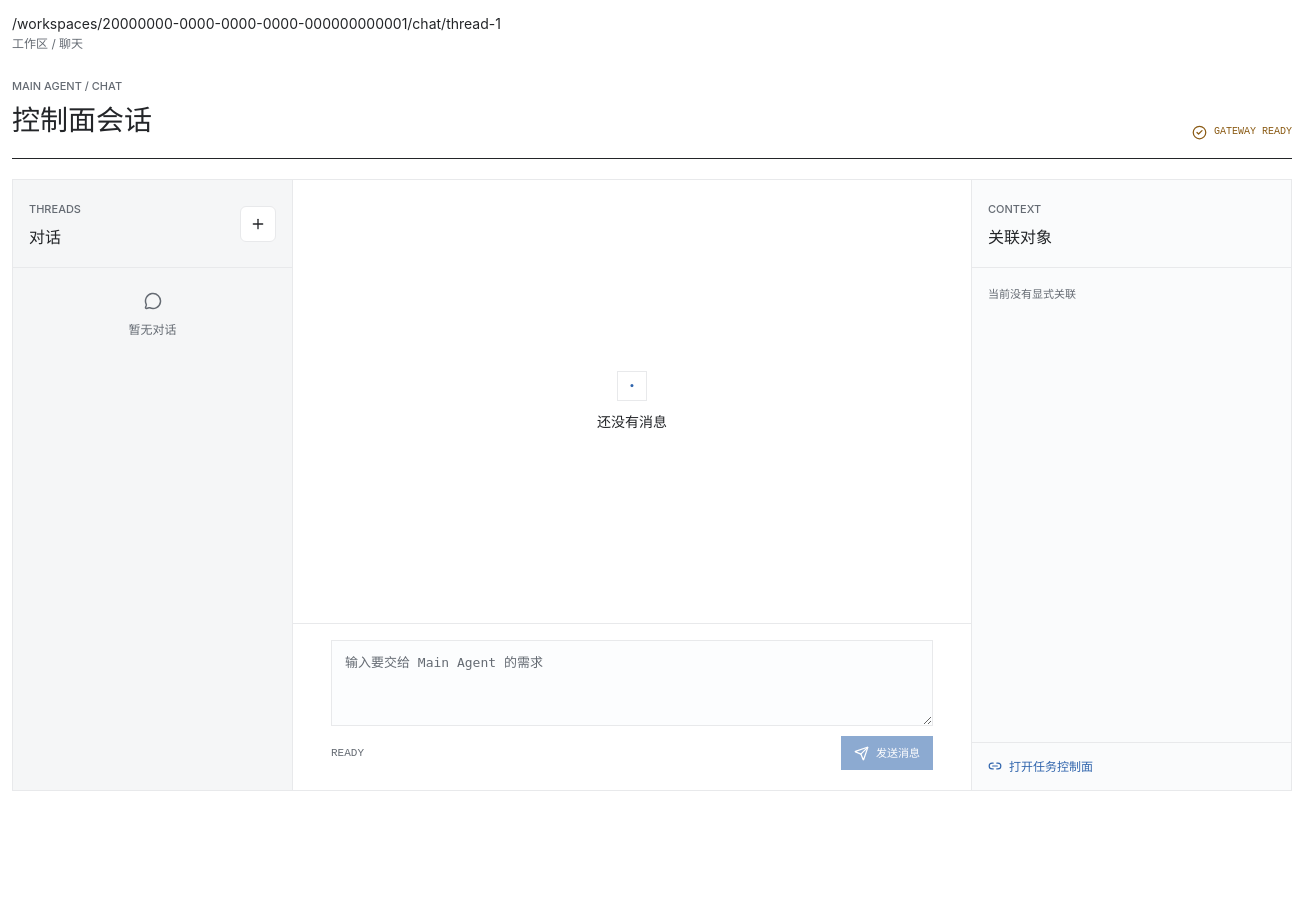
Main Agent chat workspace › retains the draft and original operation for a durable UNKNOWN acknowledgement without resend
The width and height of the screenshot is (1304, 912).
Type "original unknown text" into the text box named "给 Main Agent 的消息" at (632, 683), box [331,640,933,726]
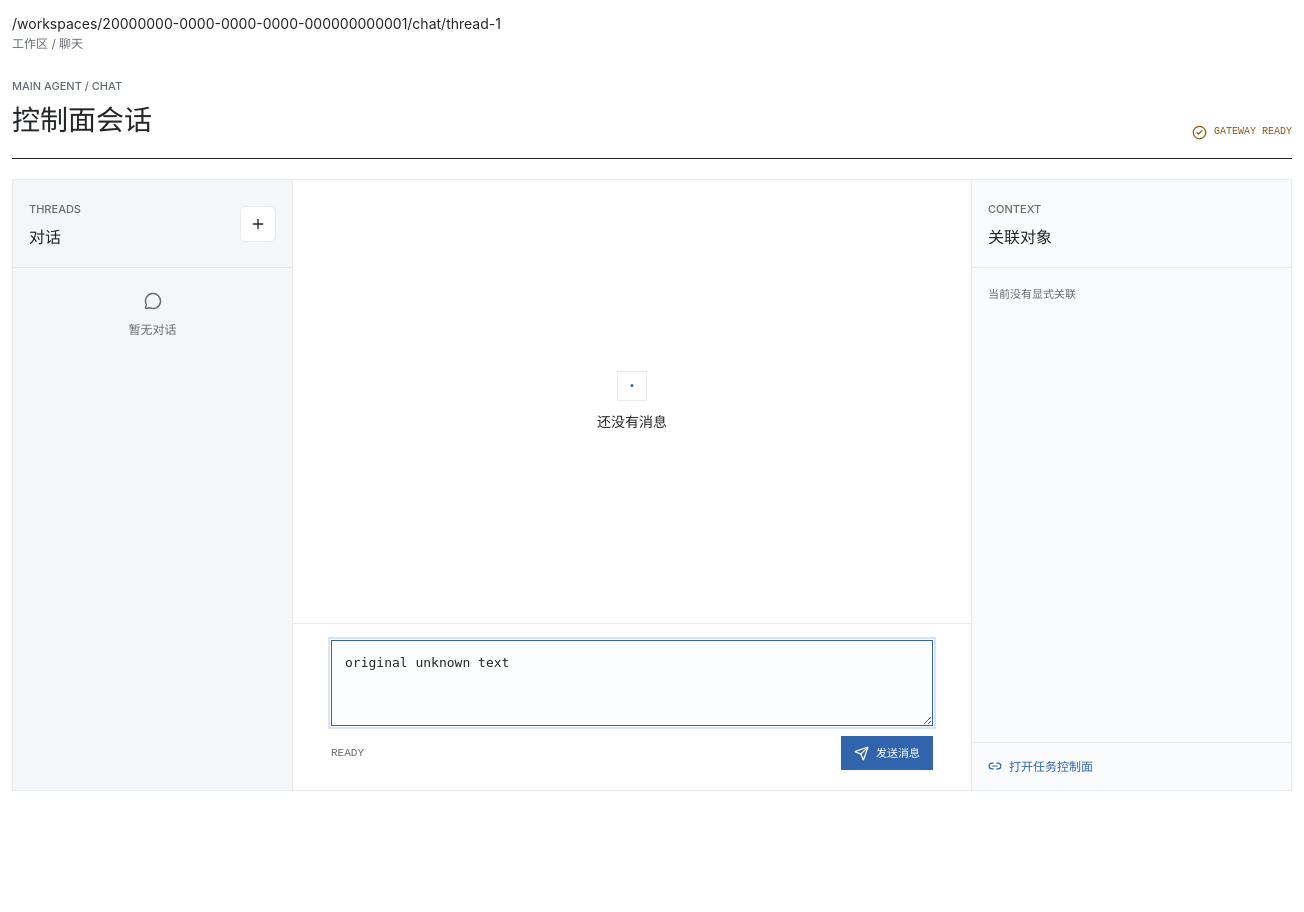
Click the button "发送消息" at (887, 753), box [841,736,933,770]
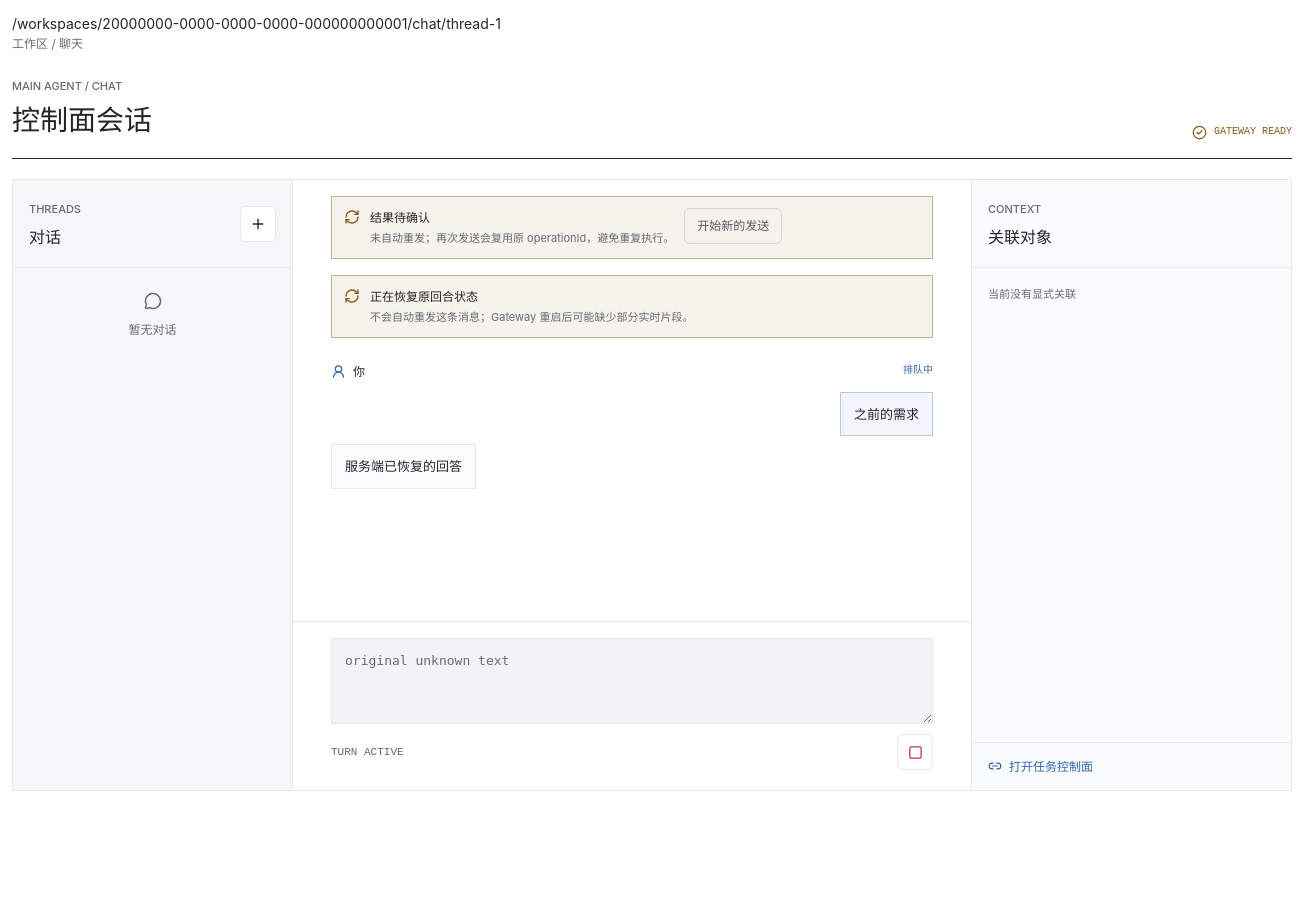
Check: the message named "发送结果恢复状态" is shown, box [331,196,933,259]
